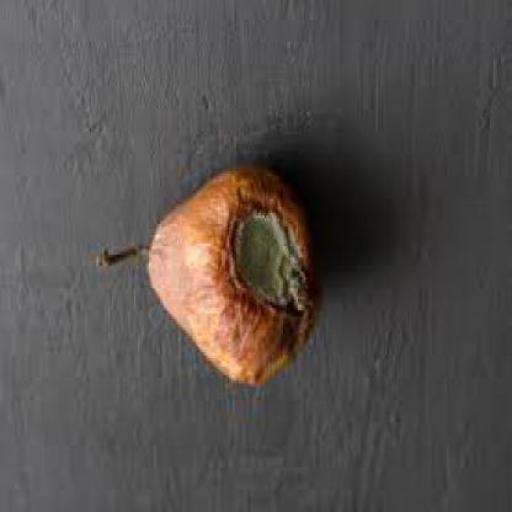biodegradable: (95, 165, 322, 389)
